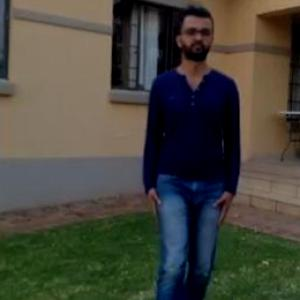follow: (145, 3, 240, 276)
